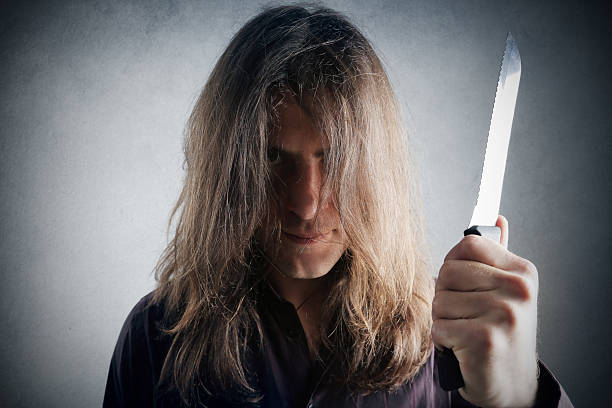knife: (463, 27, 525, 244)
